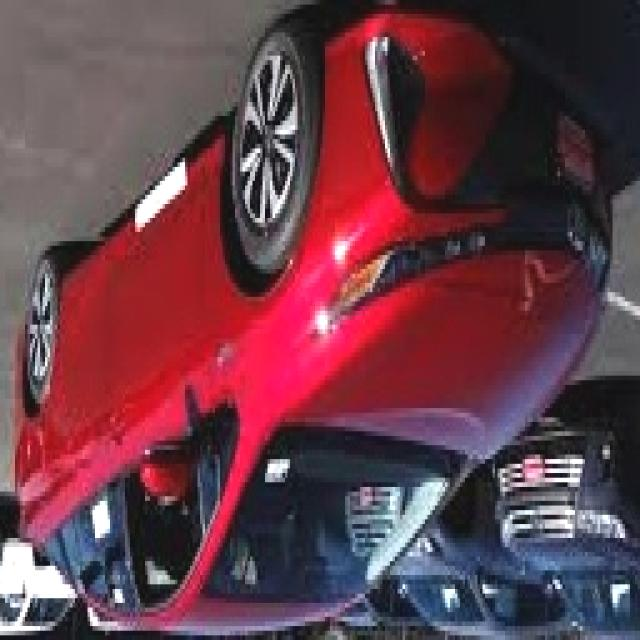black: (492, 420, 640, 640)
red: (0, 36, 615, 640)
